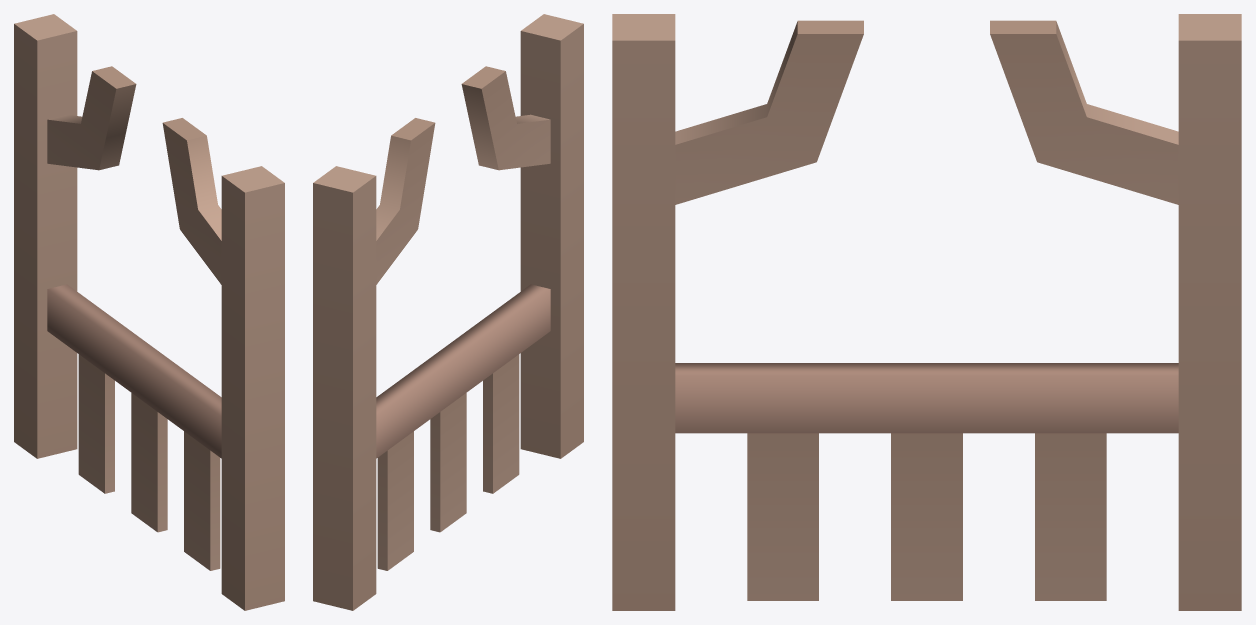
File: balcony-wall-fence.glb
The picture shows the model from 3 angles, left to right: view 1: azimuth 30°, elevation 25°; view 2: azimuth 150°, elevation 25°; view 3: azimuth 270°, elevation 25°; orthographic projection. The views are drawn at different scales.
Visible parts, largest first — view 1: balcony-wall-fence; view 2: balcony-wall-fence; view 3: balcony-wall-fence.
Boxes of the visible parts, x1,y1,x2,y2 form: balcony-wall-fence: (14, 14, 284, 610); balcony-wall-fence: (313, 14, 583, 610); balcony-wall-fence: (612, 14, 1241, 610).
Size of the model in its own units: 0.1 by 1 by 1.
